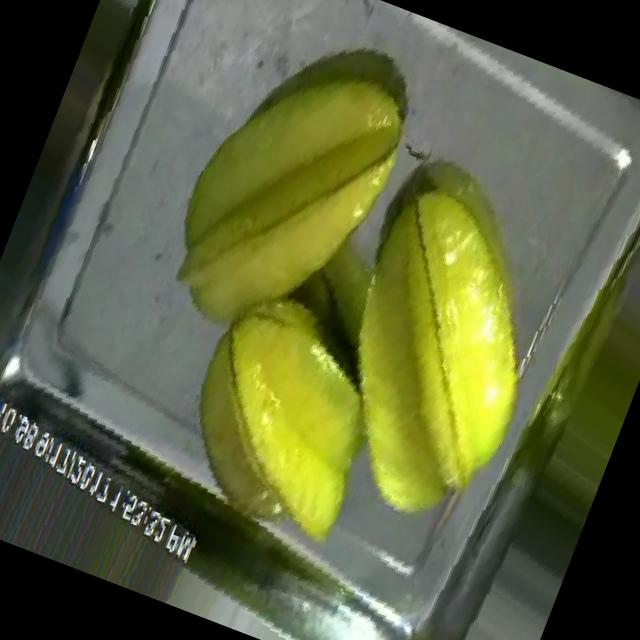fruit: (260, 140, 600, 563), (123, 0, 450, 397), (117, 245, 451, 588)
